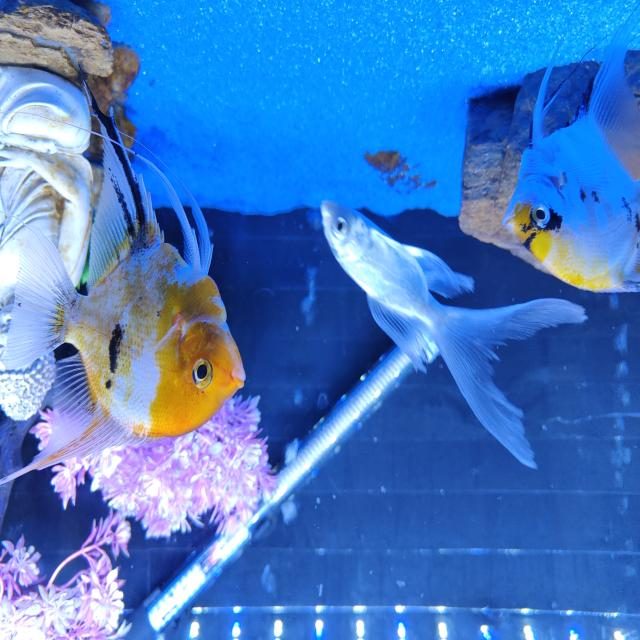Fish: (0, 89, 244, 482), (321, 200, 585, 467), (502, 8, 639, 290)
